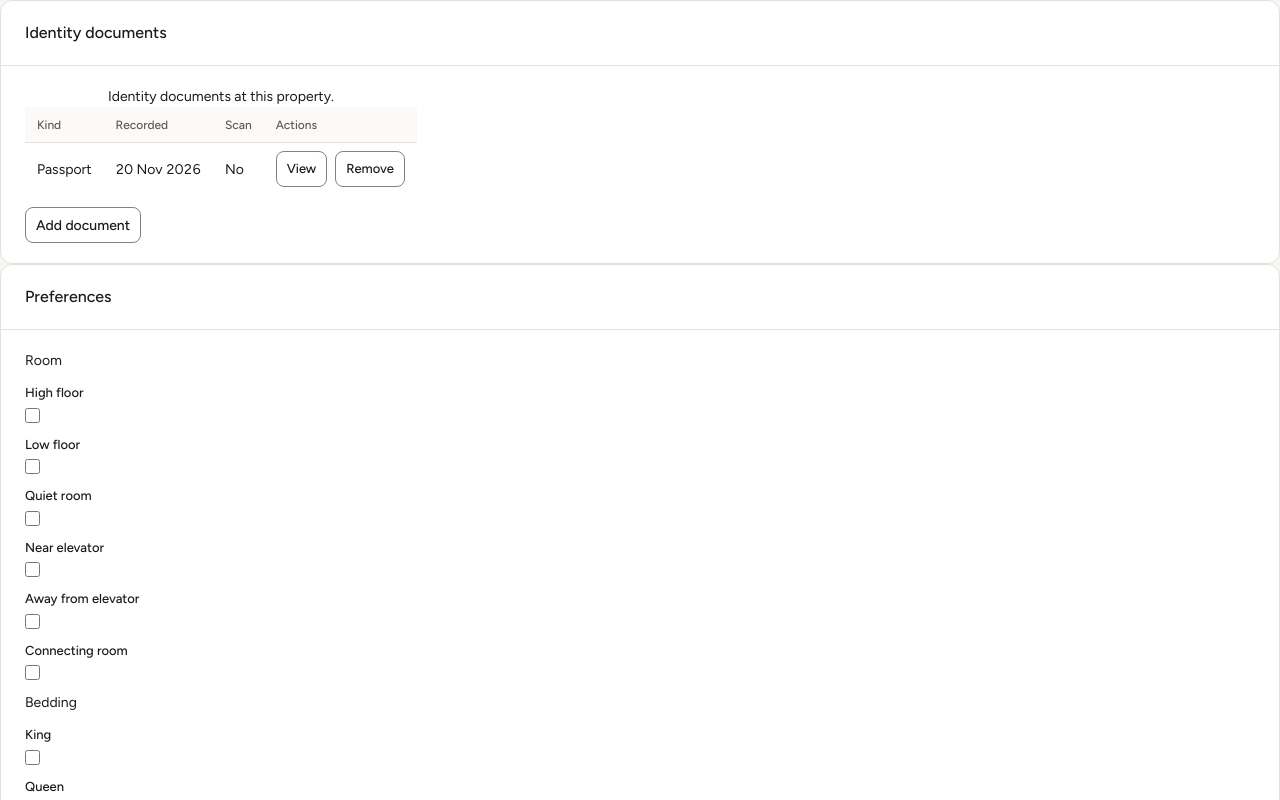
Scenario: guest identity panels › closes the identity document view when Close is clicked
This screenshot has width=1280, height=800.
Click the button "View" at {"x": 301, "y": 169}, box [276,151,327,187]
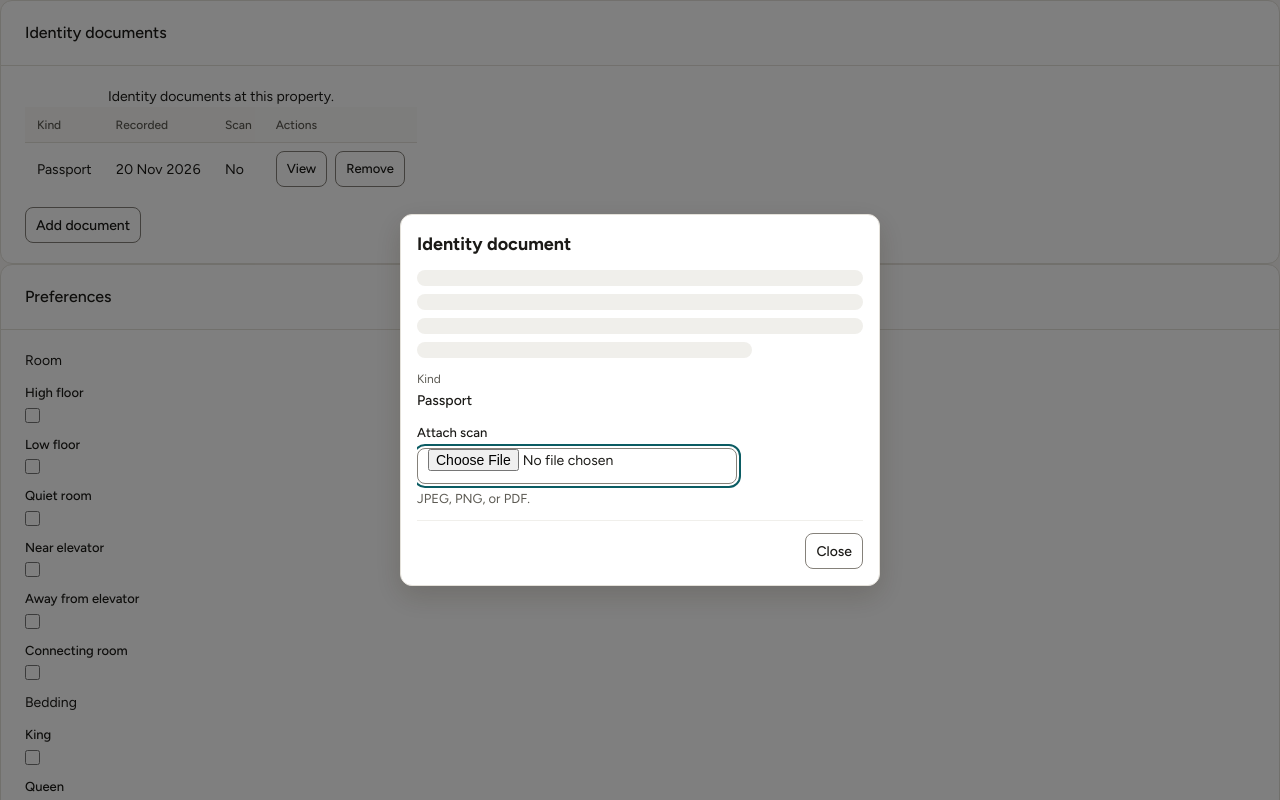
Click the button "Close" at {"x": 834, "y": 551}, box [805,533,863,569]
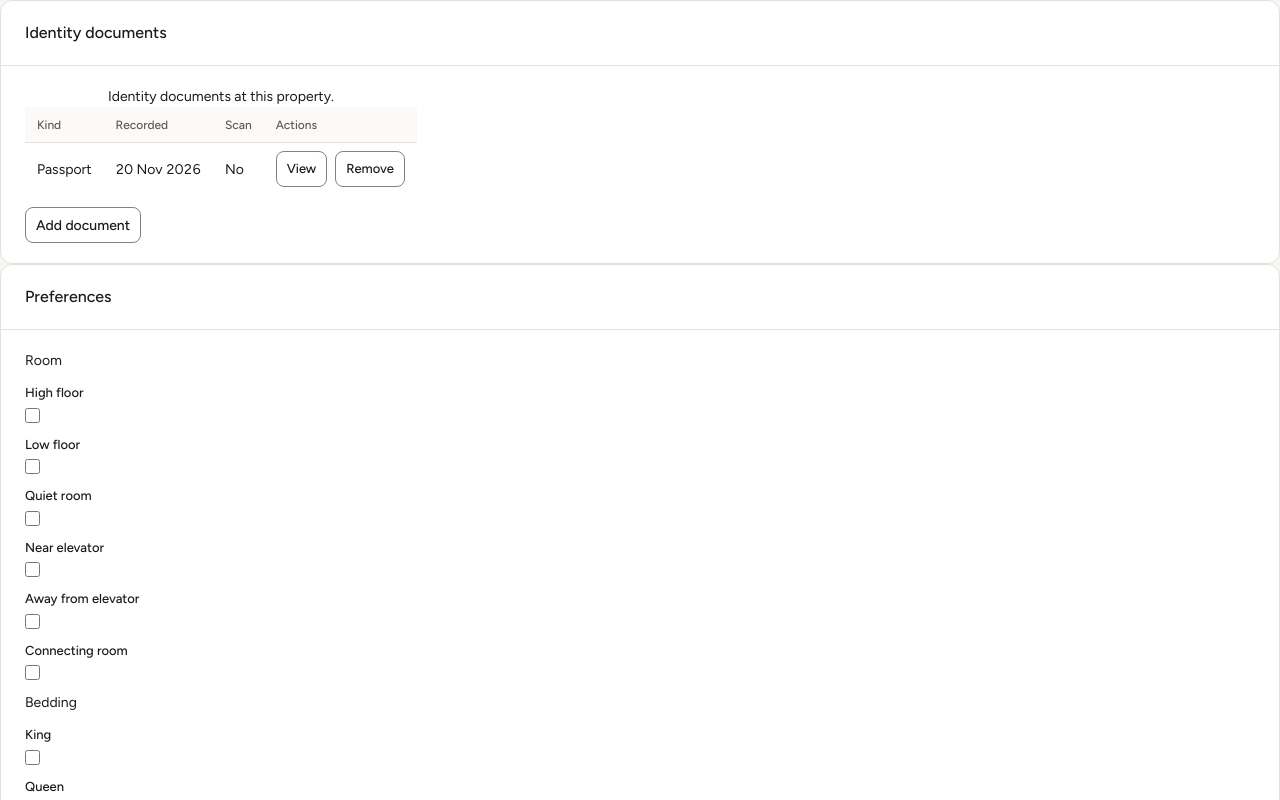
Result: the dialog with test id "view-id-document" is gone
